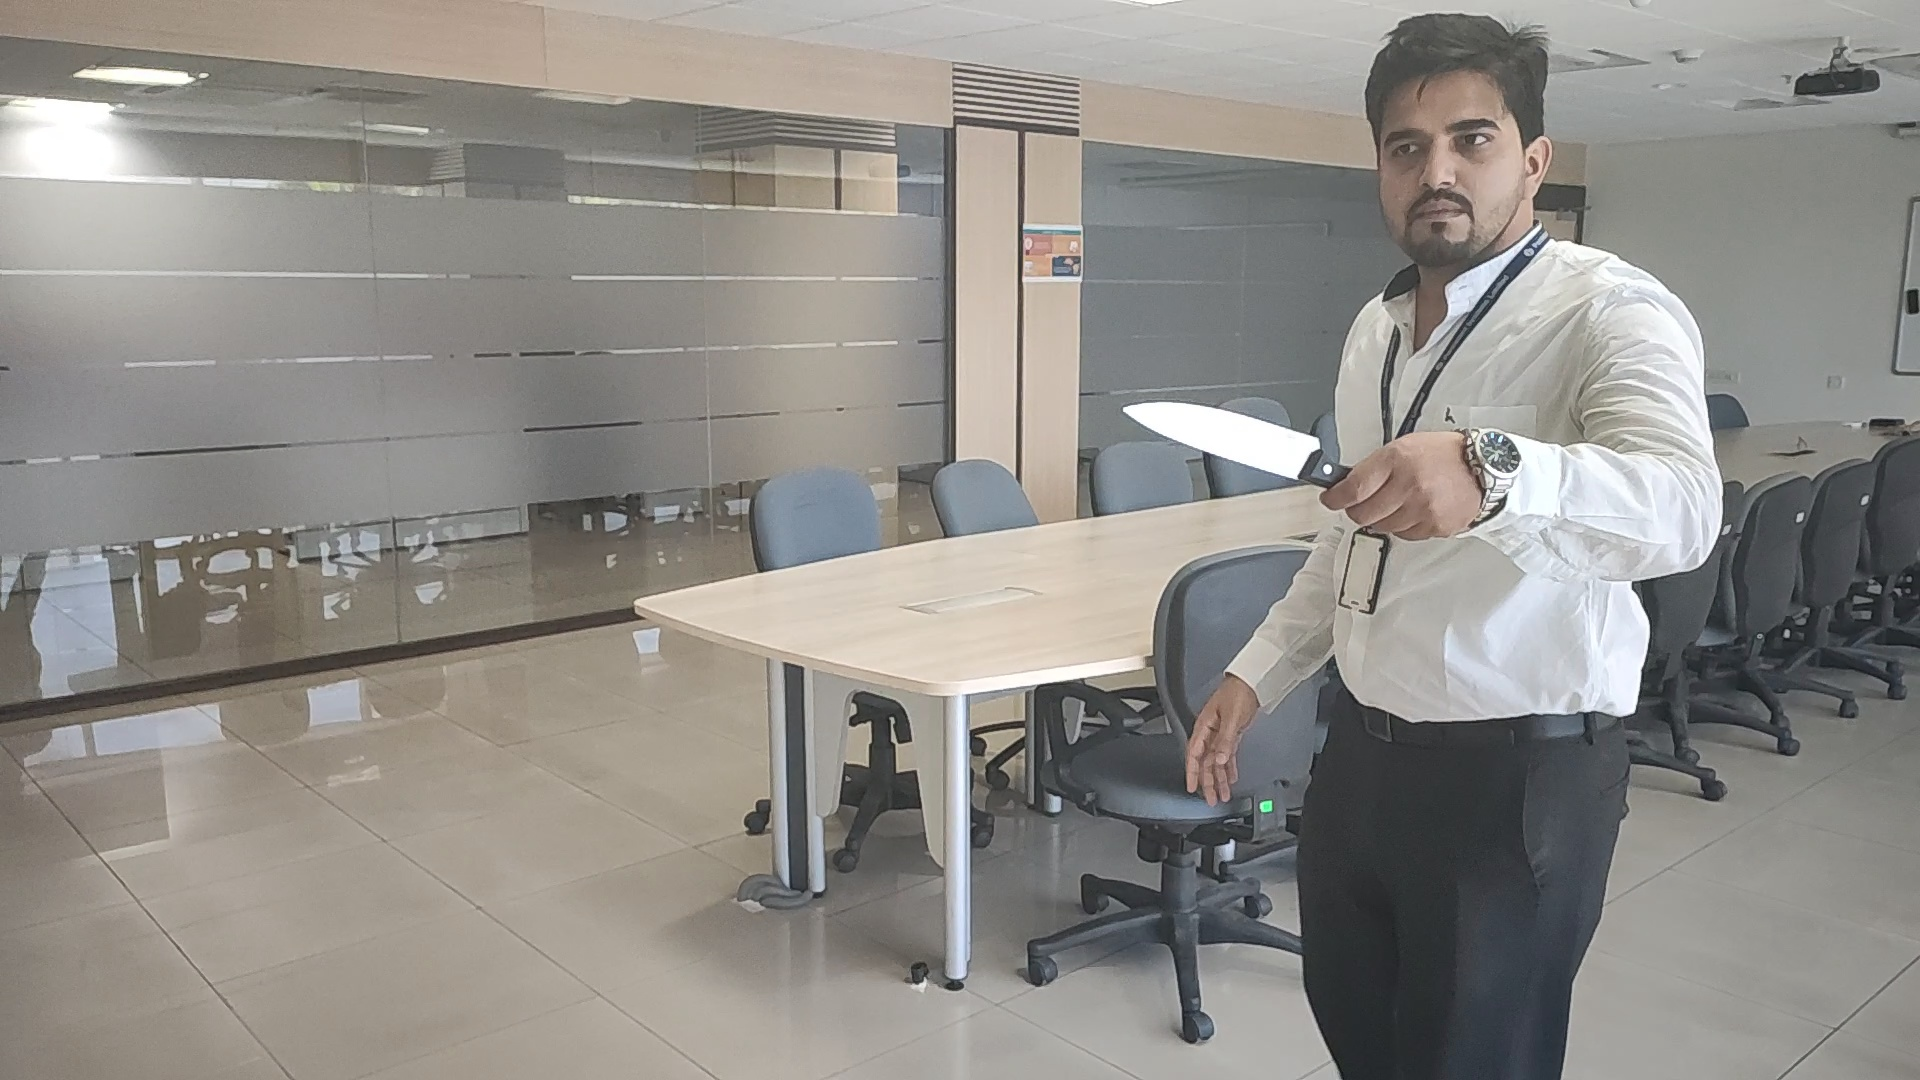knife: (1117, 396, 1349, 485)
